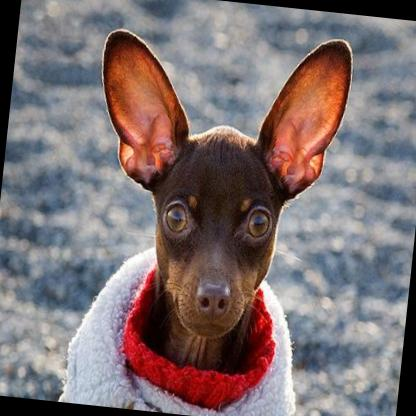miniature_pinscher: (55, 11, 355, 416)
